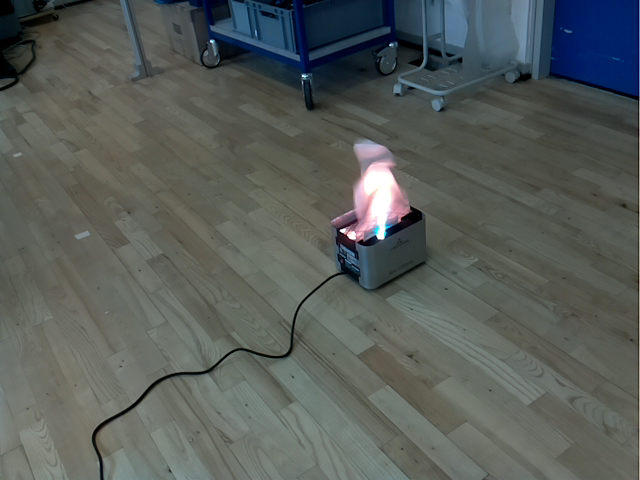fire: (351, 138, 411, 241)
